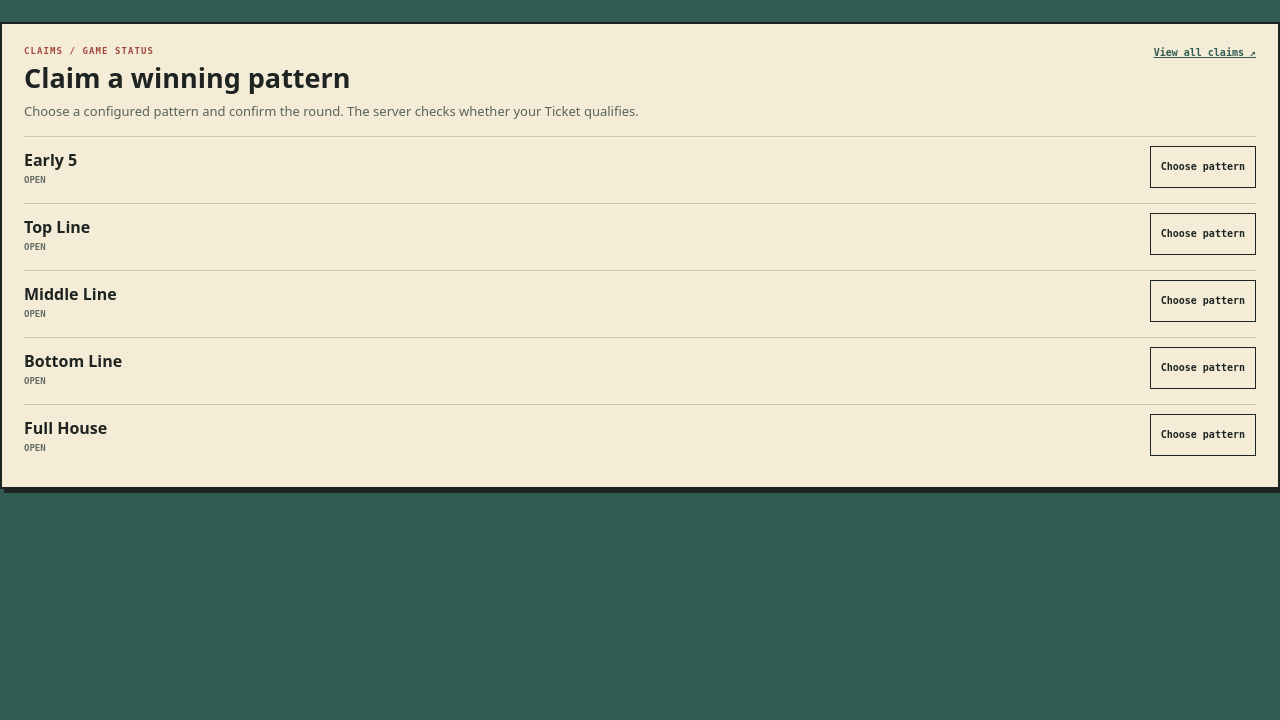
Test: participant claims › uses generic server rejection text without evaluating ticket eligibility
Step 1. Click the button "Choose pattern" in the row of "Early 5" → click(1203, 167), box [1150,146,1256,188]
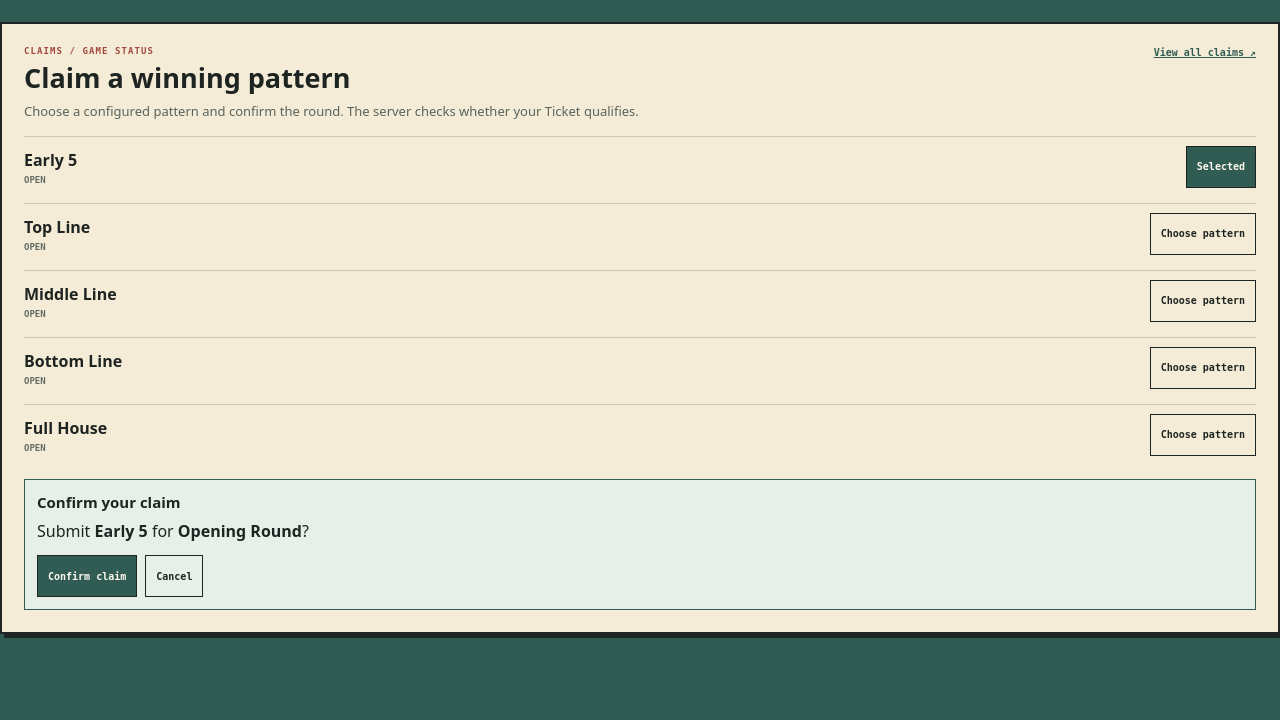
Step 2. Click the button "Confirm claim" → click(87, 576), box [37,555,137,597]
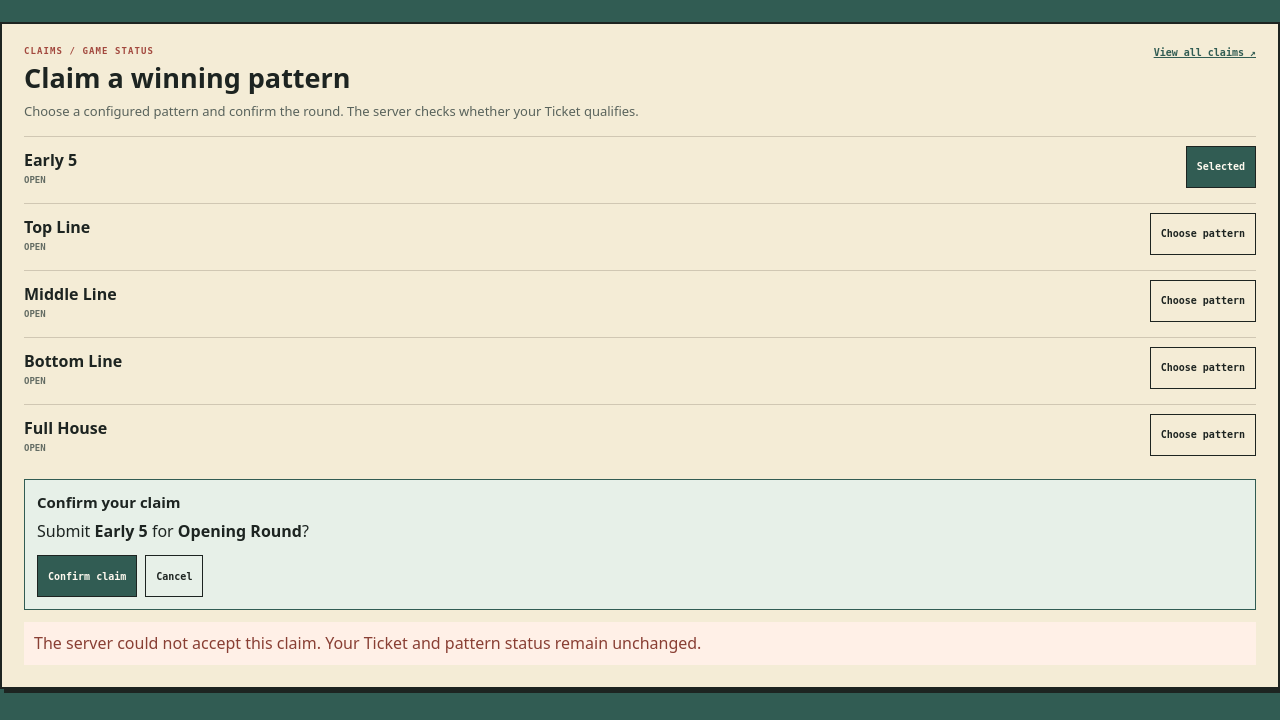
Check: the message shows "The server could not accept this claim.", box [34,632,701,654]
